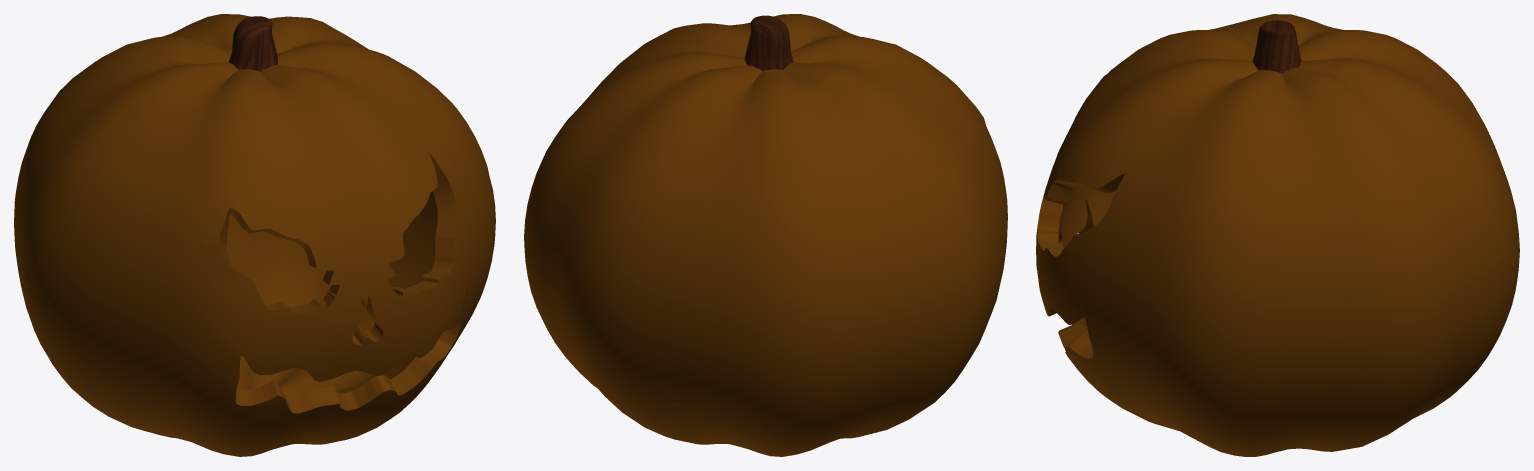
The picture shows the model from 3 angles, left to right: view 1: azimuth 30°, elevation 25°; view 2: azimuth 150°, elevation 25°; view 3: azimuth 270°, elevation 25°; orthographic projection.
Parts seen in each view (by area): view 1: defaultMaterial; view 2: defaultMaterial; view 3: defaultMaterial.
Boxes of the visible parts, bbox=[...] form: defaultMaterial: bbox=[14, 14, 495, 456]; defaultMaterial: bbox=[524, 14, 1007, 456]; defaultMaterial: bbox=[1036, 14, 1519, 456].
Size of the model in its own units: 2 by 1.83 by 1.98.
Materials: 1 (1 with a texture image).
